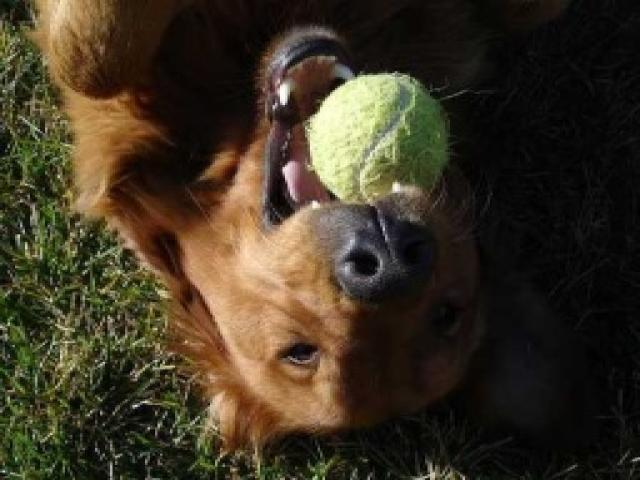tennis-ball: (312, 71, 456, 204)
